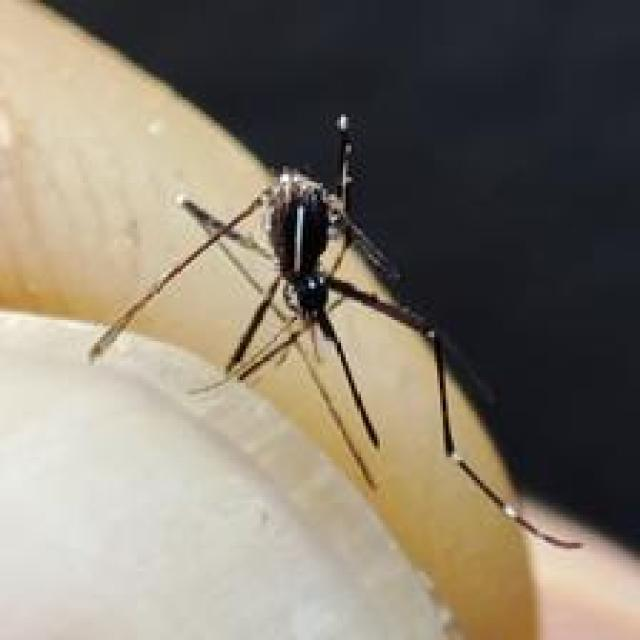Aedes albopictus: (85, 110, 586, 553)
